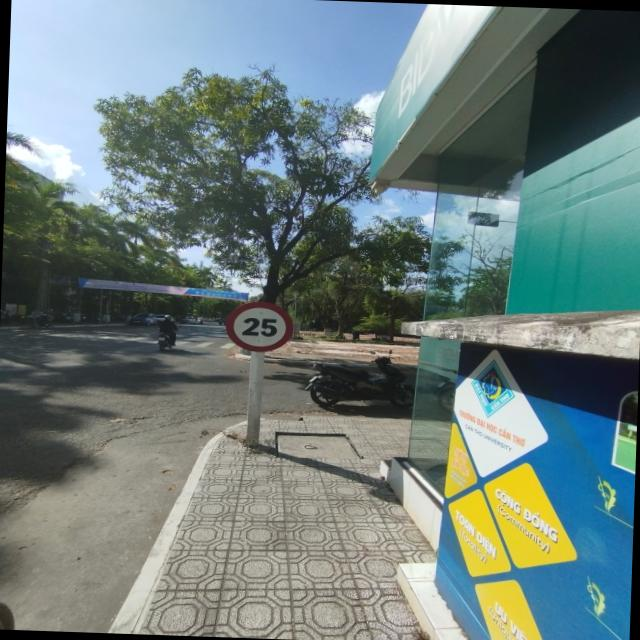Tre_Em: (222, 298, 297, 354)
